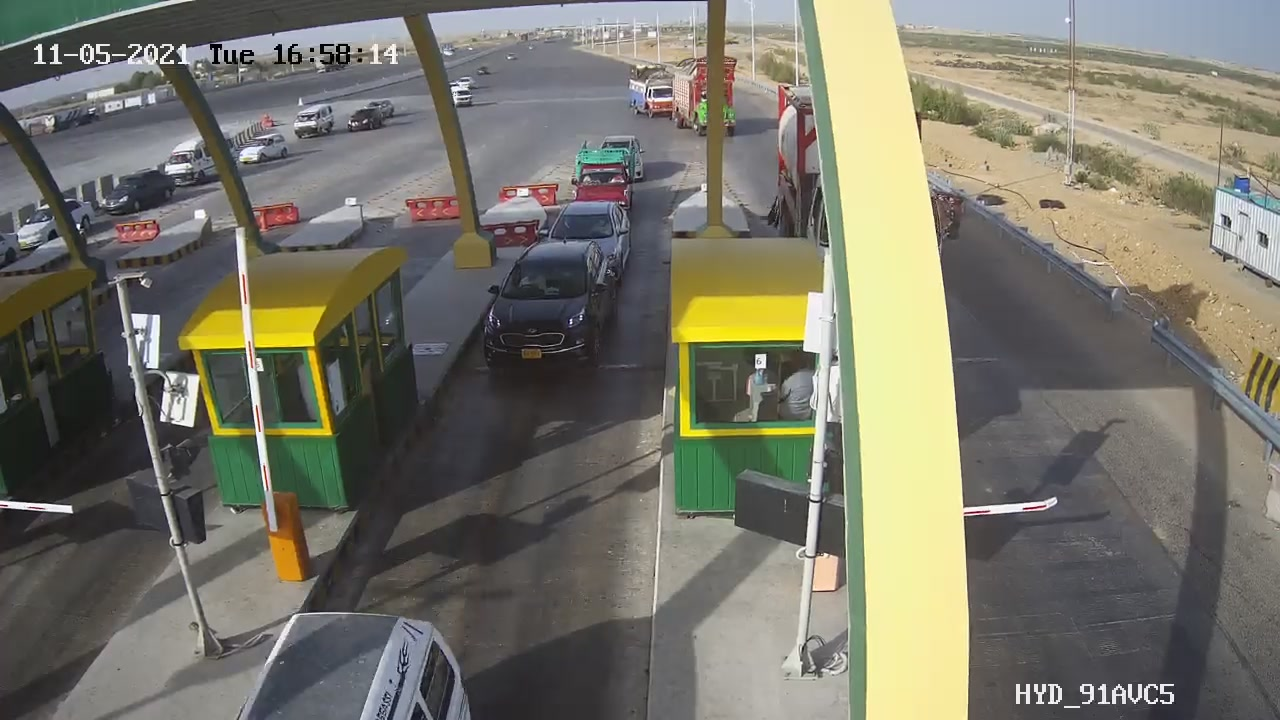F1: (463, 228, 627, 384)
